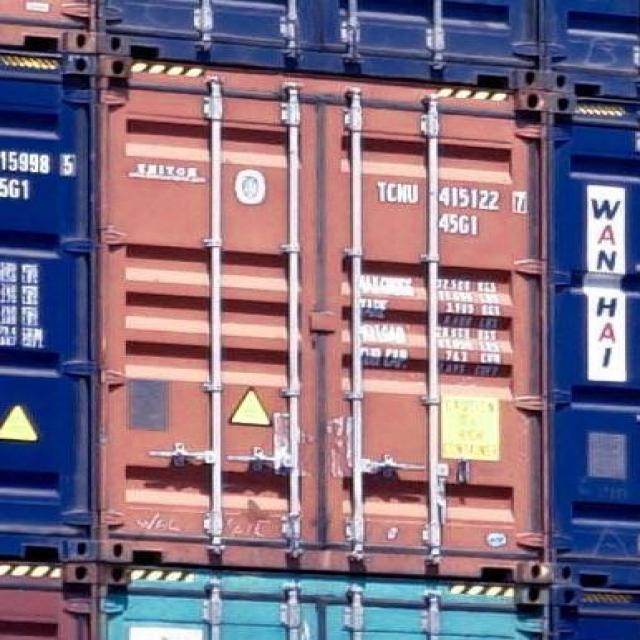ISO: (440, 213, 484, 237)
container_number: (382, 186, 531, 213)
